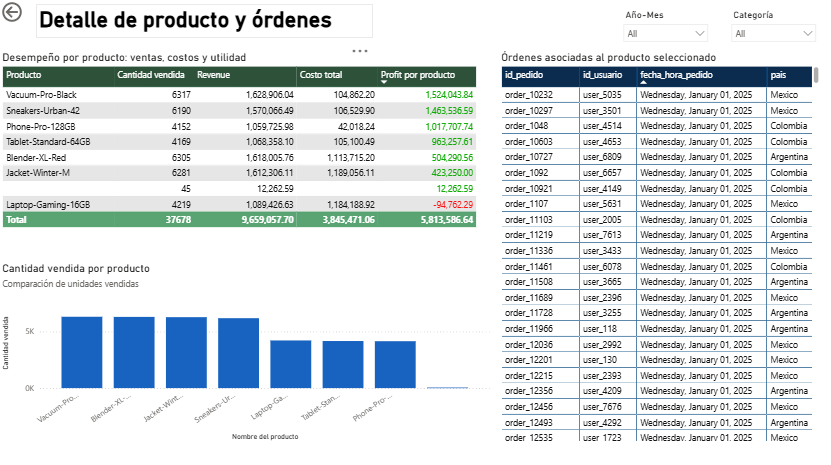

The page's visual inventory and layout, read from the dashboard file:
{"tool":"powerbi","page":{"name":"Detalle","canvas":[1280,720],"ordinal":1},"visuals":[{"type":"tableEx","title":"Desempeño por producto: ventas, costos y utilidad","fields":{"Values":["orders_clean.nombre_producto","Sum(orders_clean.cantidad_limpia)","Sum(orders_clean.revenue)","Sum(orders_clean.costo_total)","Sum(orders_clean.profit_por_producto)"]},"box":[0,80,760,280],"z":0},{"type":"slicer","fields":{"Values":["Calendar.YearMonth"]},"box":[951.2,10,150,58.8],"z":1000},{"type":"slicer","fields":{"Values":["orders_clean.categoria_producto"]},"box":[1116.2,10,150,58.8],"z":2000},{"type":"clusteredColumnChart","title":"Cantidad vendida por producto","fields":{"Y":["Sum(orders_clean.cantidad_limpia)"],"Category":["orders_clean.nombre_producto"]},"box":[0,405,760,280],"z":3000},{"type":"tableEx","title":"Órdenes asociadas al producto seleccionado","fields":{"Values":["orders_clean.id_pedido","orders_clean.id_usuario","orders_clean.fecha_hora_pedido","orders_clean.pais"]},"box":[767.5,80,498.8,605],"z":4000},{"type":"actionButton","box":[0,0,100,40],"z":5000},{"type":"textbox","box":[56.2,7.5,518.8,52.5],"z":5001}]}

Visuals, with their boxes in screenshot pixels (x1, y1, x2, y2), scaled from the page's 1280x720 canvas onto the 831x465 screenshot:
"Desempeño por producto: ventas, costos y utilidad" tableEx: <box>0,52,493,232</box>
slicer - Calendar.YearMonth: <box>618,6,715,44</box>
slicer - orders_clean.categoria_producto: <box>725,6,822,44</box>
"Cantidad vendida por producto" clusteredColumnChart: <box>0,262,493,442</box>
"Órdenes asociadas al producto seleccionado" tableEx: <box>498,52,822,442</box>
actionButton: <box>0,0,65,26</box>
textbox: <box>36,5,373,39</box>
